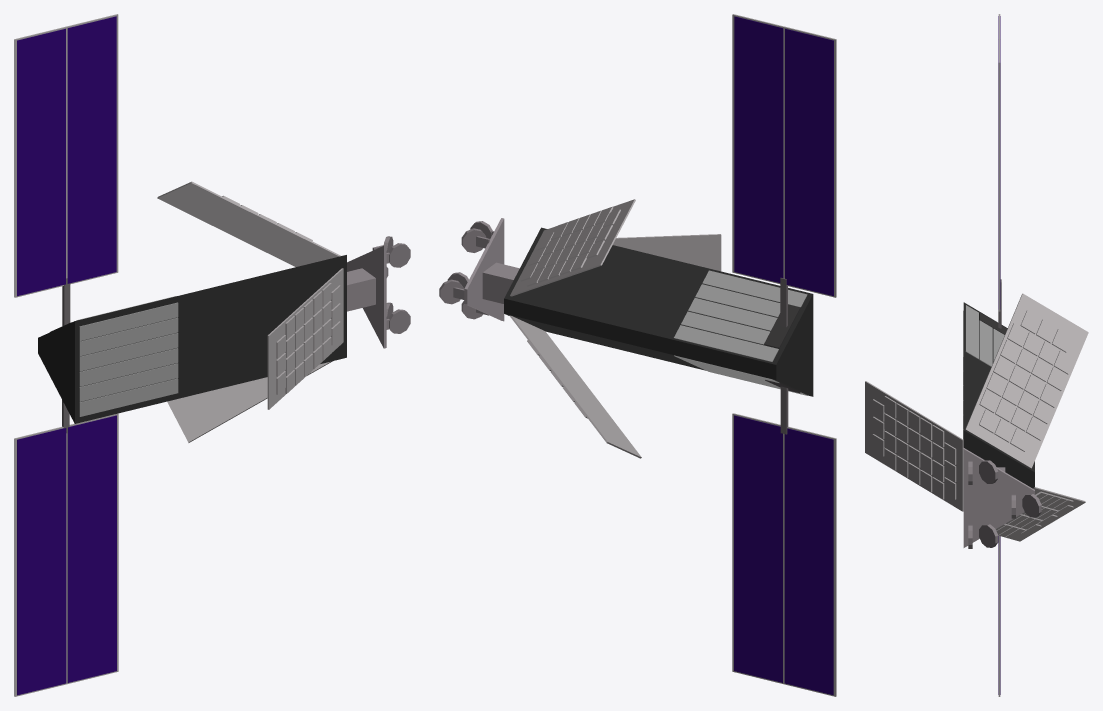
File: iridium_high.gltf
3 views of the same model, side by side, from view 1: azimuth 30°, elevation 25°; view 2: azimuth 150°, elevation 25°; view 3: azimuth 270°, elevation 25° (orthographic). The views are drawn at different scales.
Visible parts, largest first — view 1: Cube, Cube.142, Cube.138, Cube.137, Cube.141, Cube.017, Cube.105, Cube.140, Cube.136, Cube.044, Cube.144, Cube.011 (+6 smaller); view 2: Cube, Cube.142, Cube.138, Cube.141, Cube.137, Cube.105, Cube.044, Cube.140, Cube.136, Cube.144, Cube.017, Cube.002 (+6 smaller); view 3: Cube.017, Cube.144, Cube, Cube.044, Cube.140, Cube.005, Cube.004, Cube.142, Cube.105, Cube.136, Cylinder.001, Cylinder.005 (+1 smaller).
Boxes of the visible parts, x1,y1,x2,y2 form: Cube: [38, 255, 346, 423]; Cube.142: [67, 16, 116, 283]; Cube.138: [17, 428, 66, 695]; Cube.137: [67, 415, 116, 682]; Cube.141: [17, 28, 65, 296]; Cube.017: [157, 181, 340, 266]; Cube.105: [167, 361, 332, 442]; Cube.140: [14, 14, 118, 297]; Cube.136: [14, 413, 118, 696]; Cube.044: [267, 268, 343, 409]; Cube.144: [347, 245, 386, 348]; Cube.011: [79, 363, 178, 401]; Cube: [504, 227, 813, 396]; Cube.142: [734, 16, 783, 282]; Cube.138: [784, 428, 833, 695]; Cube.141: [785, 28, 833, 296]; Cube.137: [734, 415, 782, 682]; Cube.105: [509, 315, 641, 458]; Cube.044: [613, 234, 721, 271]; Cube.140: [732, 14, 836, 297]; Cube.136: [732, 413, 836, 696]; Cube.144: [464, 218, 504, 321]; Cube.017: [510, 199, 635, 296]; Cube.002: [674, 325, 778, 361]; Cube.017: [965, 293, 1088, 468]; Cube.144: [963, 448, 1034, 547]; Cube: [963, 302, 1034, 488]; Cube.044: [865, 381, 963, 511]; Cube.140: [998, 14, 1000, 311]; Cube.005: [965, 305, 978, 359]; Cube.004: [979, 320, 992, 366]; Cube.142: [998, 40, 1000, 309]; Cube.105: [1004, 487, 1085, 541]; Cube.136: [998, 536, 1000, 696]; Cylinder.001: [979, 524, 998, 547]; Cylinder.005: [1022, 494, 1041, 517].
Size of the model in its own units: 7.73 by 12.76 by 4.08.
